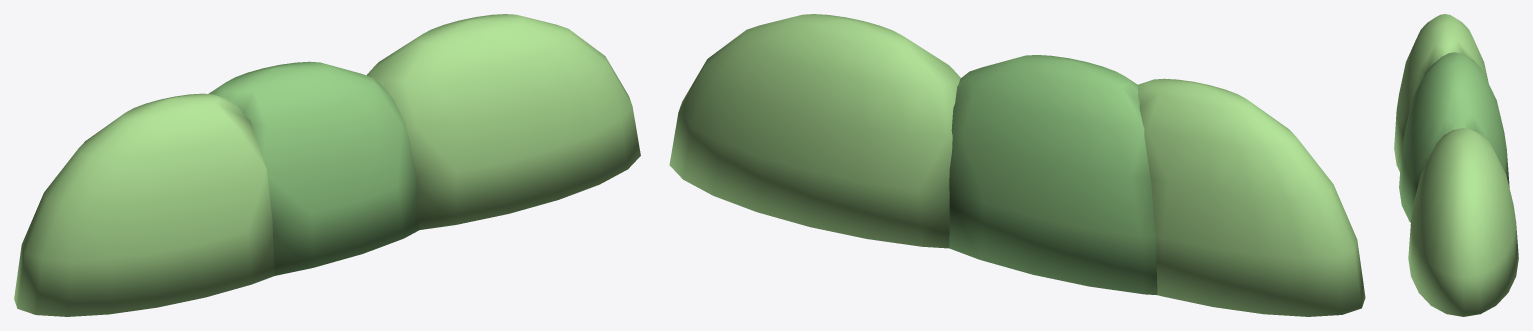
Rendered from Forest_Hills1.fbx.
3 renders of one model, left to right at view 1: azimuth 30°, elevation 25°; view 2: azimuth 150°, elevation 25°; view 3: azimuth 270°, elevation 25°, orthographic. The views are drawn at different scales.
Visible parts, largest first — view 1: Forest_Hills1; view 2: Forest_Hills1; view 3: Forest_Hills1.
Part boxes in pixels (x1,y1,x2,y2): Forest_Hills1: [14, 14, 640, 316]; Forest_Hills1: [669, 14, 1365, 316]; Forest_Hills1: [1394, 14, 1518, 316].
Size of the model in its own units: 17 by 4.42 by 4.03.
